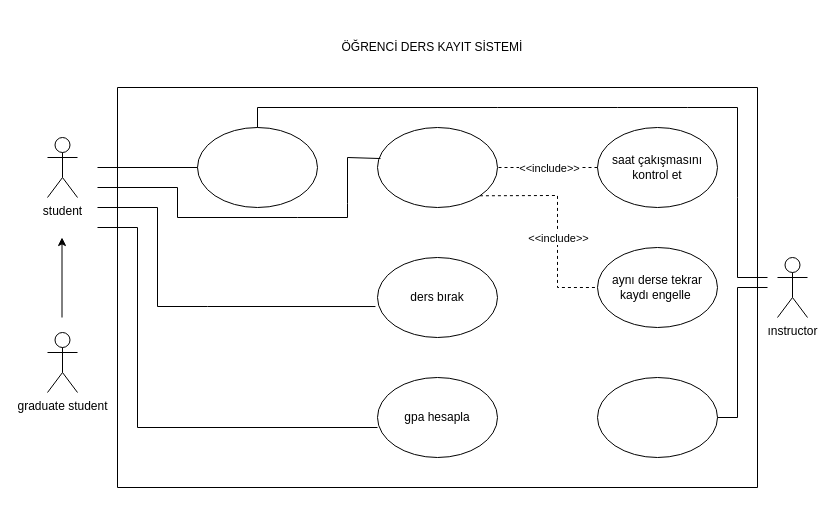
Some shapes in this 834 by 506 pixel diagram are drawn without their labels. Here are the shapes that lost their labels. From the top down, the centre of each, then its label:
point 257,167: ders listesini görüntüle
point 437,167: derse kayıt ol
point 657,417: derse eğitmen ata
